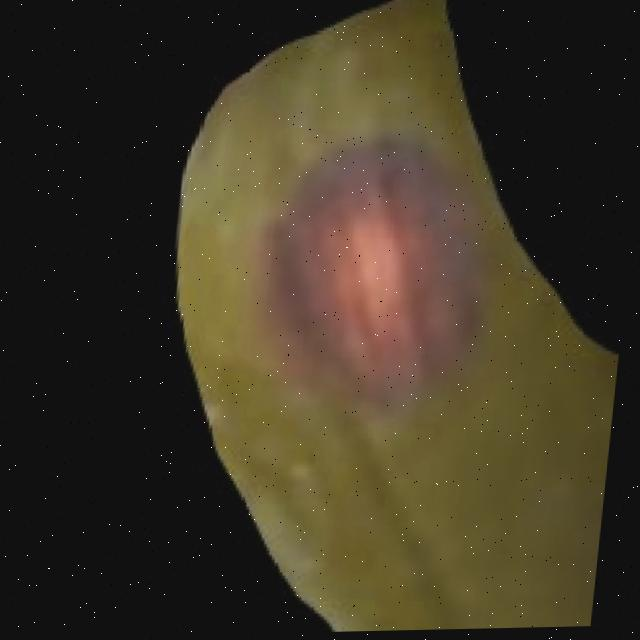mite: (402, 0, 639, 359)
sunburn: (242, 128, 505, 425)
